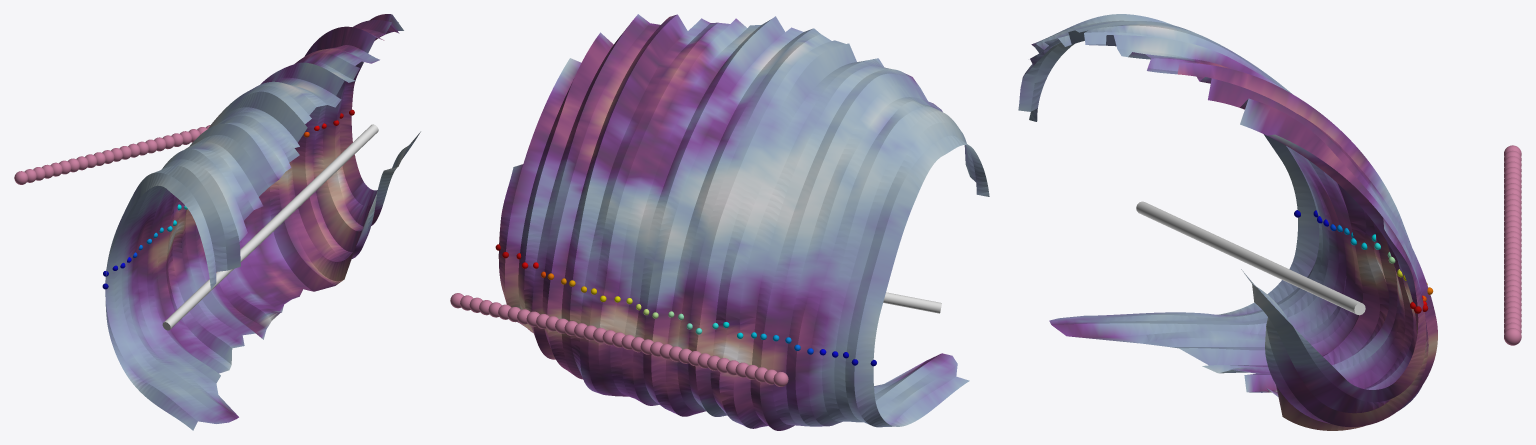
File: Twilight_data_vole_65_7E_id2_L23.gltf
The picture shows the model from 3 angles, left to right: view 1: azimuth 30°, elevation 25°; view 2: azimuth 150°, elevation 25°; view 3: azimuth 270°, elevation 25°; orthographic projection. The views are drawn at different scales.
Bounding box in the file's own units: 3.54 × 3.45 × 3.96.
